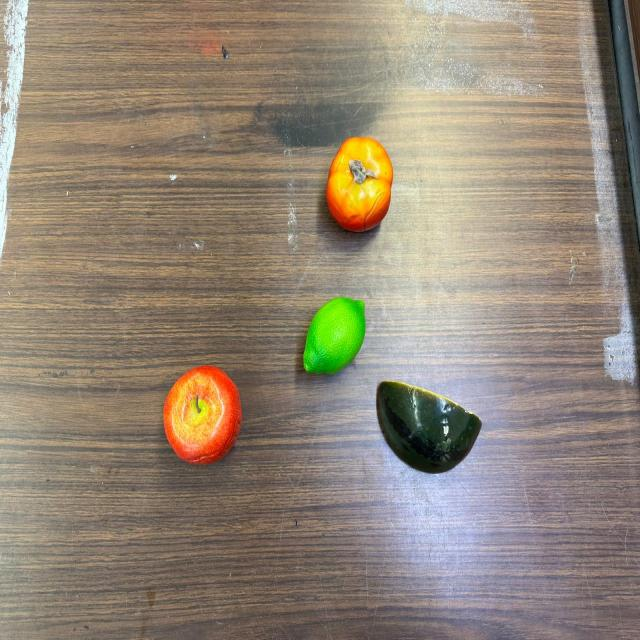apple: (164, 366, 242, 464)
lemon: (302, 298, 365, 374)
tomato: (326, 137, 393, 231)
watermelon: (376, 381, 482, 472)
